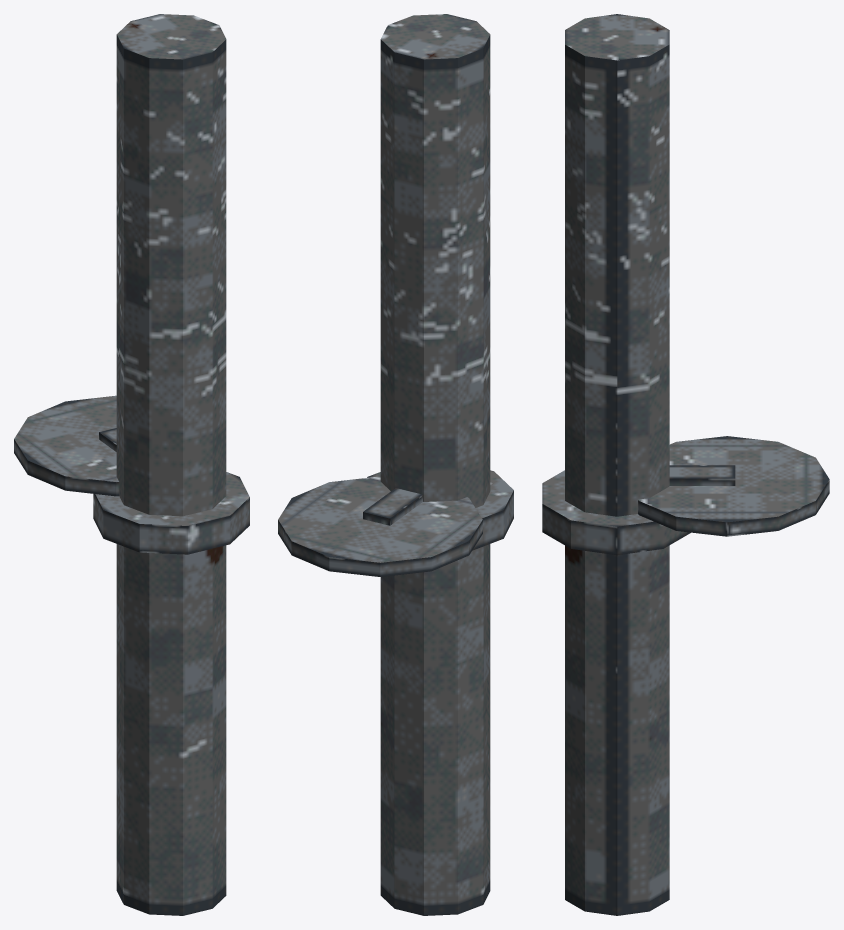
Rendered from SM_Pipe_Valve_01.fbx.
The picture shows the model from 3 angles, left to right: view 1: azimuth 30°, elevation 25°; view 2: azimuth 150°, elevation 25°; view 3: azimuth 270°, elevation 25°; orthographic projection.
Visible parts, largest first — view 1: SM_Pipe_Valve_01; view 2: SM_Pipe_Valve_01; view 3: SM_Pipe_Valve_01.
Part boxes in pixels (box(x1,y1,x2,y2)): SM_Pipe_Valve_01: box(14, 14, 249, 915); SM_Pipe_Valve_01: box(278, 14, 513, 915); SM_Pipe_Valve_01: box(542, 14, 829, 915).
Bounding box in the file's own units: 0.26 × 1.2 × 0.3651.
1 material, 1 textured.
